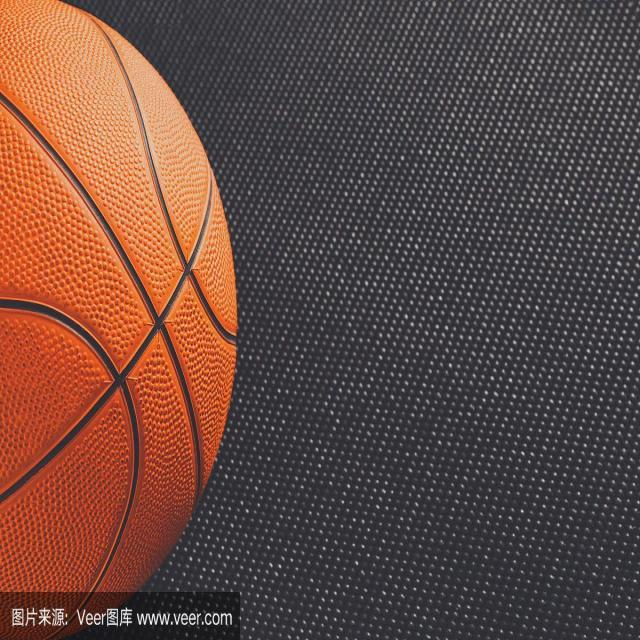rim: (0, 0, 241, 635)
